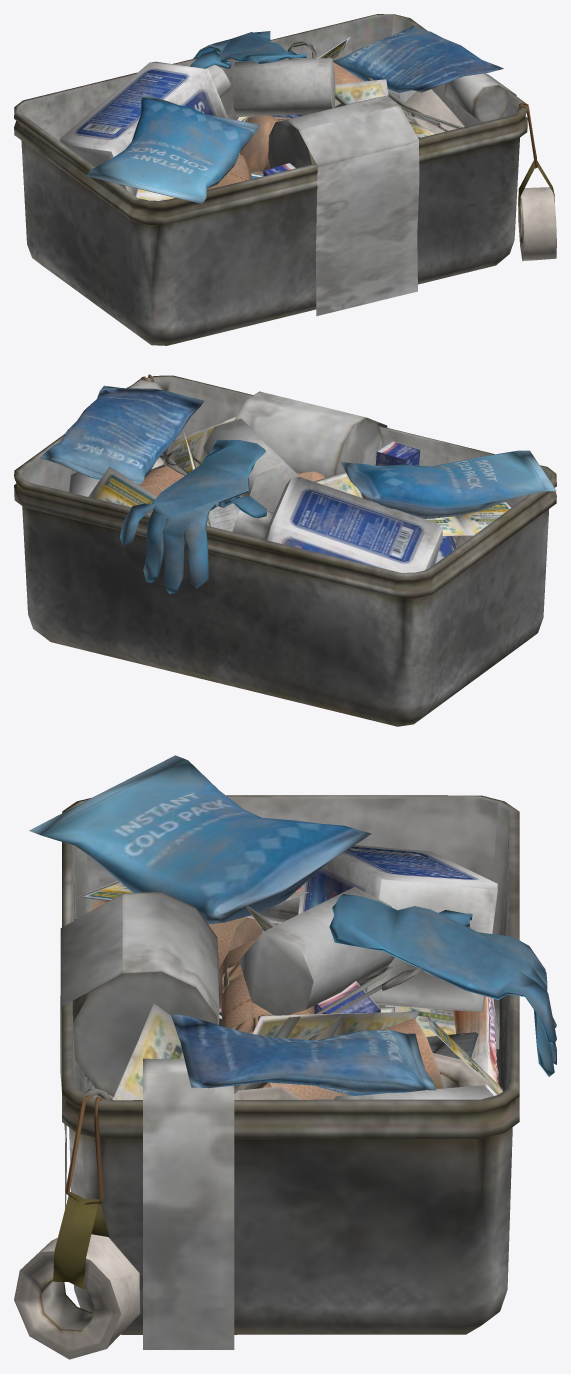
File: medkit-open.glb
3 renders of one model, top to bottom at view 1: azimuth 30°, elevation 25°; view 2: azimuth 150°, elevation 25°; view 3: azimuth 270°, elevation 25°, orthographic. The views are drawn at different scales.
Parts seen in each view (by area): view 1: pCylinder9; view 2: pCylinder9; view 3: pCylinder9.
Part boxes in pixels (x1,y1,x2,y2): pCylinder9: (14,14,556,345); pCylinder9: (14,374,556,726); pCylinder9: (14,755,556,1359).
Size of the model in its own units: 0.3227 by 0.1351 by 0.2103.
2 materials, 2 textured.
